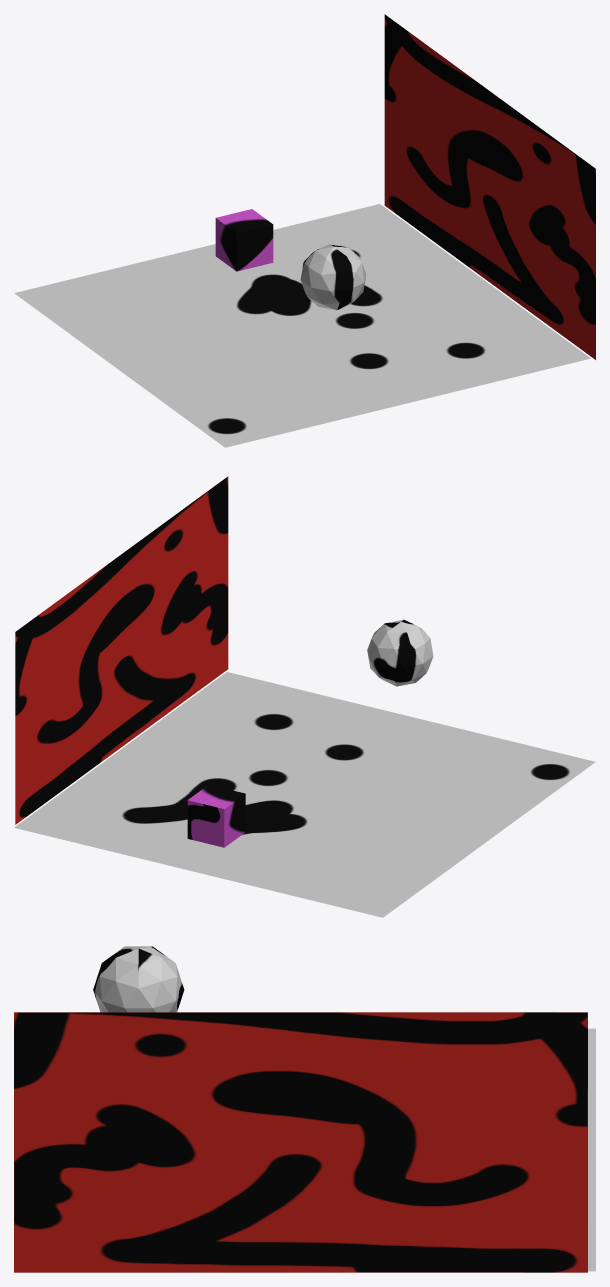
The picture shows the model from 3 angles, top to bottom: view 1: azimuth 30°, elevation 25°; view 2: azimuth 150°, elevation 25°; view 3: azimuth 270°, elevation 25°; orthographic projection. The views are drawn at different scales.
Parts seen in each view (by area): view 1: Plane, Plane.001, Icosphere, Cube; view 2: Plane, Plane.001, Icosphere, Cube; view 3: Plane.001, Icosphere, Plane.
Part boxes in pixels (bbox=[...]): Plane: bbox=[14, 204, 590, 447]; Plane.001: bbox=[384, 14, 595, 359]; Icosphere: bbox=[300, 244, 366, 310]; Cube: bbox=[215, 209, 273, 271]; Plane: bbox=[14, 672, 595, 917]; Plane.001: bbox=[15, 476, 228, 824]; Icosphere: bbox=[367, 619, 433, 686]; Cube: bbox=[187, 784, 245, 847]; Plane.001: bbox=[14, 1012, 587, 1272]; Icosphere: bbox=[93, 946, 184, 1012]; Plane: bbox=[588, 1028, 595, 1271].
Bounding box in the file's own units: 20.1 × 10 × 20.28.
4 materials, 4 textured.
